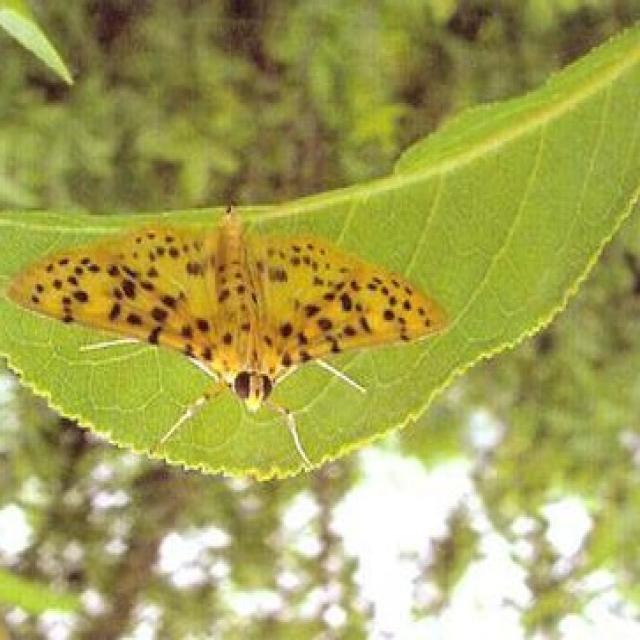peach borer: (3, 207, 451, 417)
